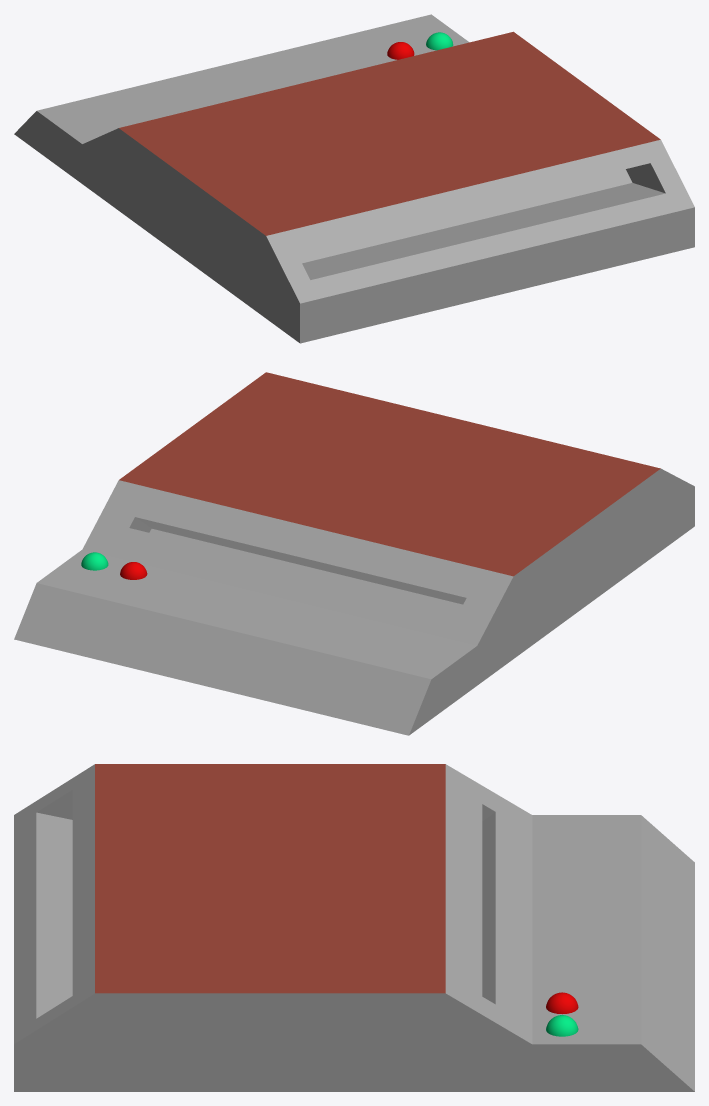
The model's file is TrituradoraFinal2.0.fbx.
3 views of the same model, one above another, from view 1: azimuth 30°, elevation 25°; view 2: azimuth 150°, elevation 25°; view 3: azimuth 270°, elevation 25° (orthographic). The views are drawn at different scales.
Parts seen in each view (by area): view 1: Trituradora; view 2: Trituradora; view 3: Trituradora.
Boxes of the visible parts, x1,y1,x2,y2 form: Trituradora: (14, 14, 694, 343); Trituradora: (14, 372, 694, 735); Trituradora: (14, 764, 694, 1091).
Bounding box in the file's own units: 1 × 0.2002 × 1.26.
